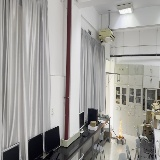fire: (118, 119, 123, 139)
